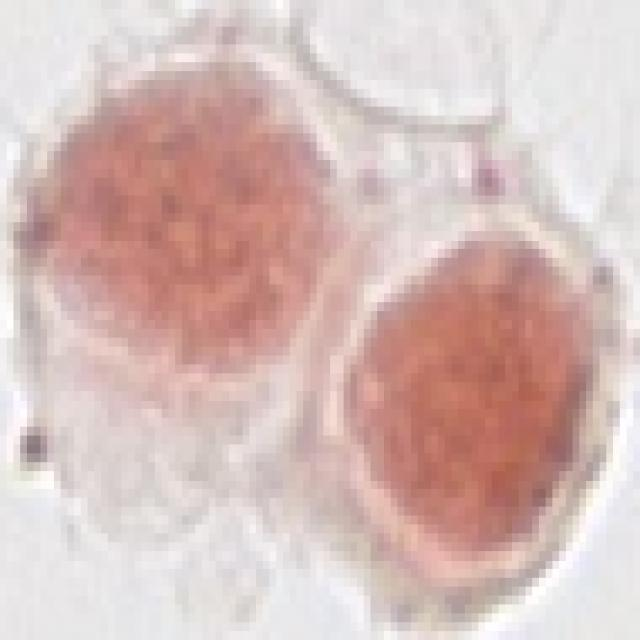cytoplasm: (263, 178, 636, 640)
nucleus: (0, 5, 394, 421)
